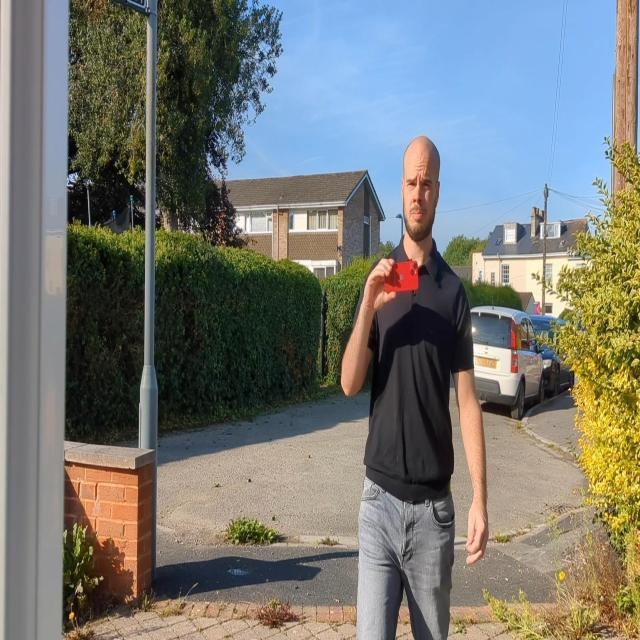Mobile: (384, 260, 419, 292)
